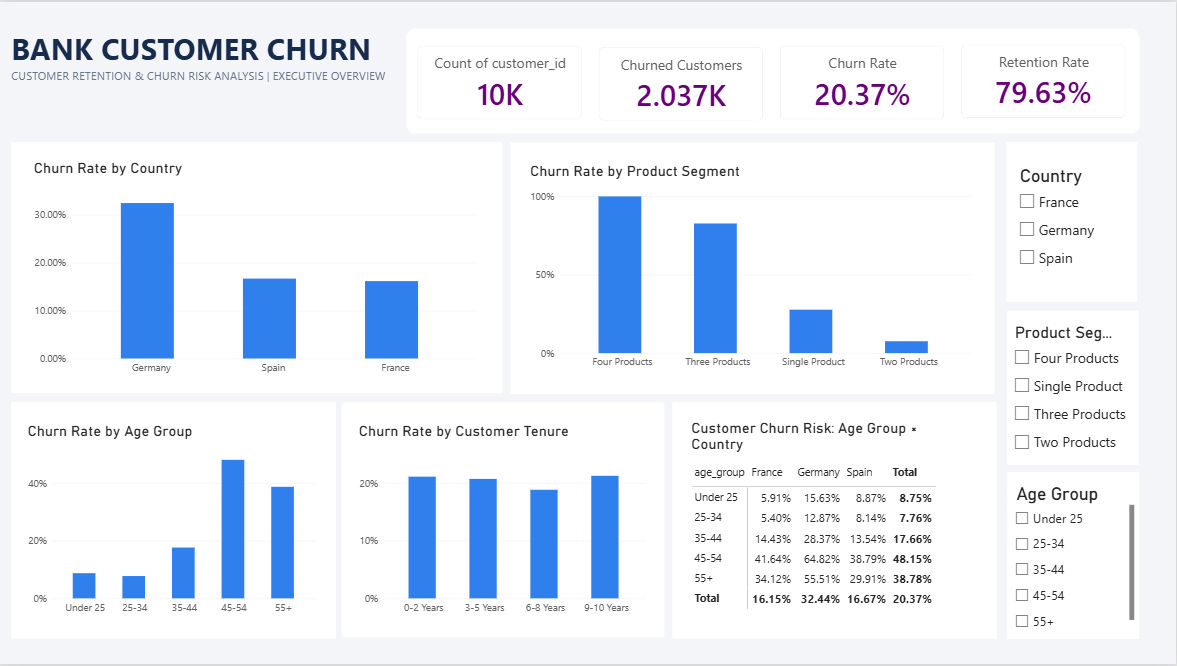

This screenshot's page, from the dashboard's own definition file:
{"tool":"powerbi","page":{"name":"Executive Overview","canvas":[1920,1080],"ordinal":0},"visuals":[{"type":"textbox","box":[18.2,43.2,638.6,170.5],"z":0},{"type":"shape","box":[1645.4,503.7,213.6,251.5],"z":0,"group":"g14"},{"type":"shape","box":[1097.7,652.3,529,386],"z":0,"group":"g12"},{"type":"shape","box":[1645.7,766.8,214.2,272.5],"z":0,"group":"g2"},{"type":"group","id":"g1","title":"Group 10","box":[663.6,43.2,1197.5,172.5],"z":1000},{"type":"shape","box":[1642.9,228.6,213.6,260.6],"z":1000,"group":"g3"},{"type":"shape","box":[18.2,229.5,801.7,410],"z":1000,"group":"g5"},{"type":"group","id":"g2","title":"Group 6","box":[1645.7,766.8,213.6,272.1],"z":1000,"group":"g8"},{"type":"shape","box":[663.6,43.2,1197.5,172.5],"z":2000,"group":"g1"},{"type":"group","id":"g3","title":"Group 7","box":[1642.9,228.6,214.3,261.1],"z":2000,"group":"g8"},{"type":"group","id":"g4","title":"Group 1","box":[833,229.5,794.3,411.4],"z":2000},{"type":"shape","box":[833,229.5,792.2,412.3],"z":2000,"group":"g4"},{"type":"cardVisual","title":"Total Customers","fields":{"Data":["Count(Bank_Customer_Churn_Cleaned.customer_id)"]},"box":[682.6,72.3,268,120],"z":3000,"group":"g13"},{"type":"group","id":"g5","title":"Group 4","box":[18.2,229.5,801.1,409.1],"z":3000},{"type":"group","id":"g6","title":"Group 8","box":[1645.4,503.7,213.6,251.5],"z":3000,"group":"g8"},{"type":"shape","box":[558,652.1,528.4,385.7],"z":3000,"group":"g10"},{"type":"shape","box":[18.2,652.2,530.2,385.7],"z":3000,"group":"g11"},{"type":"cardVisual","fields":{"Data":["Bank_Customer_Churn_Cleaned.Churned Customers"]},"box":[978.7,73.3,268,120],"z":4000,"group":"g13"},{"type":"group","id":"g7","title":"Group 5","box":[18.2,652.1,1609.1,386.5],"z":4000},{"type":"group","id":"g8","title":"Group 14","box":[1642.9,228.6,216.7,809.5],"z":5000},{"type":"group","id":"g9","title":"Group 12","box":[1097.7,652.3,529.5,386.4],"z":5000,"group":"g7"},{"type":"cardVisual","fields":{"Data":["Bank_Customer_Churn_Cleaned.Churn Rate"]},"box":[1274.8,71.2,268,120],"z":6000,"group":"g13"},{"type":"clusteredColumnChart","title":"Churn Rate by Country","fields":{"Category":["Bank_Customer_Churn_Cleaned.country"],"Y":["Bank_Customer_Churn_Cleaned.Churn Rate"]},"box":[38.9,242,753.8,389],"z":6000,"group":"g5"},{"type":"cardVisual","fields":{"Data":["Bank_Customer_Churn_Cleaned.Retention Rate"]},"box":[1570.9,70.1,268,120],"z":7000,"group":"g13"},{"type":"clusteredColumnChart","title":"Churn Rate by Product Segment","fields":{"Category":["Bank_Customer_Churn_Cleaned.product_segment"],"Y":["Bank_Customer_Churn_Cleaned.Churn Rate"]},"box":[849.6,247.3,753.5,374.1],"z":7000,"group":"g4"},{"type":"group","id":"g10","title":"Group 2","box":[558,652.1,529.5,386.4],"z":7000,"group":"g7"},{"type":"group","id":"g11","title":"Group 3","box":[18.2,652.2,529.5,386.4],"z":8000,"group":"g7"},{"type":"pivotTable","title":"Customer Churn Risk: Age Group × Country","fields":{"Columns":["Bank_Customer_Churn_Cleaned.country"],"Rows":["Bank_Customer_Churn_Cleaned.age_group"],"Values":["Bank_Customer_Churn_Cleaned.Churn Rate"]},"box":[1112.3,665.4,488.8,350.2],"z":8000,"group":"g12"},{"type":"clusteredColumnChart","title":"Churn Rate by Customer Tenure","fields":{"Category":["Bank_Customer_Churn_Cleaned.tenure_group"],"Y":["Bank_Customer_Churn_Cleaned.Churn Rate"]},"box":[570.9,671.1,502.6,350],"z":8000,"group":"g10"},{"type":"group","id":"g12","title":"Group 13","box":[1097.7,652.3,529,386],"z":8002,"group":"g9"},{"type":"slicer","title":"Select Country","fields":{"Values":["Bank_Customer_Churn_Cleaned.country"]},"box":[1658,266.5,179.5,180.6],"z":9000,"group":"g3"},{"type":"clusteredColumnChart","title":"Churn Rate by Age Group","fields":{"Category":["Bank_Customer_Churn_Cleaned.age_group"],"Y":["Bank_Customer_Churn_Cleaned.Churn Rate"]},"box":[29.3,671.2,504.4,350],"z":9000,"group":"g11"},{"type":"slicer","fields":{"Values":["Bank_Customer_Churn_Cleaned.age_group"]},"box":[1652.4,785.3,200.9,235.6],"z":9000,"group":"g2"},{"type":"slicer","fields":{"Values":["Bank_Customer_Churn_Cleaned.product_segment"]},"box":[1650,524.6,204.3,216.3],"z":10000,"group":"g14"},{"type":"group","id":"g13","title":"Group 9","box":[682.6,70.1,1154.5,122.7],"z":13003,"group":"g1"},{"type":"group","id":"g14","title":"Group 11","box":[1645.4,503.7,213.6,251.5],"z":13005,"group":"g6"}]}

Visuals, with their boxes in screenshot pixels (x1, y1, x2, y2), scaled from the page's 1920x1080 canvas onto the 1177x666 screenshot:
textbox: pyautogui.locateOnScreen(11, 27, 403, 132)
shape: pyautogui.locateOnScreen(1009, 311, 1140, 466)
shape: pyautogui.locateOnScreen(673, 402, 997, 640)
shape: pyautogui.locateOnScreen(1009, 473, 1140, 641)
"Group 10" group: pyautogui.locateOnScreen(407, 27, 1141, 133)
shape: pyautogui.locateOnScreen(1007, 141, 1138, 302)
shape: pyautogui.locateOnScreen(11, 142, 503, 394)
"Group 6" group: pyautogui.locateOnScreen(1009, 473, 1140, 641)
shape: pyautogui.locateOnScreen(407, 27, 1141, 133)
"Group 7" group: pyautogui.locateOnScreen(1007, 141, 1139, 302)
"Group 1" group: pyautogui.locateOnScreen(511, 142, 998, 395)
shape: pyautogui.locateOnScreen(511, 142, 996, 396)
"Total Customers" cardVisual: pyautogui.locateOnScreen(418, 45, 583, 119)
"Group 4" group: pyautogui.locateOnScreen(11, 142, 502, 394)
"Group 8" group: pyautogui.locateOnScreen(1009, 311, 1140, 466)
shape: pyautogui.locateOnScreen(342, 402, 666, 640)
shape: pyautogui.locateOnScreen(11, 402, 336, 640)
cardVisual - Bank_Customer_Churn_Cleaned.Churned Customers: pyautogui.locateOnScreen(600, 45, 764, 119)
"Group 5" group: pyautogui.locateOnScreen(11, 402, 998, 640)
"Group 14" group: pyautogui.locateOnScreen(1007, 141, 1140, 640)
"Group 12" group: pyautogui.locateOnScreen(673, 402, 998, 641)
cardVisual - Bank_Customer_Churn_Cleaned.Churn Rate: pyautogui.locateOnScreen(781, 44, 946, 118)
"Churn Rate by Country" clusteredColumnChart: pyautogui.locateOnScreen(24, 149, 486, 389)
cardVisual - Bank_Customer_Churn_Cleaned.Retention Rate: pyautogui.locateOnScreen(963, 43, 1127, 117)
"Churn Rate by Product Segment" clusteredColumnChart: pyautogui.locateOnScreen(521, 153, 983, 383)
"Group 2" group: pyautogui.locateOnScreen(342, 402, 667, 640)
"Group 3" group: pyautogui.locateOnScreen(11, 402, 336, 640)
"Customer Churn Risk: Age Group × Country" pivotTable: pyautogui.locateOnScreen(682, 410, 982, 626)
"Churn Rate by Customer Tenure" clusteredColumnChart: pyautogui.locateOnScreen(350, 414, 658, 630)
"Group 13" group: pyautogui.locateOnScreen(673, 402, 997, 640)
"Select Country" slicer: pyautogui.locateOnScreen(1016, 164, 1126, 276)
"Churn Rate by Age Group" clusteredColumnChart: pyautogui.locateOnScreen(18, 414, 327, 630)
slicer - Bank_Customer_Churn_Cleaned.age_group: pyautogui.locateOnScreen(1013, 484, 1136, 630)
slicer - Bank_Customer_Churn_Cleaned.product_segment: pyautogui.locateOnScreen(1011, 324, 1137, 457)
"Group 9" group: pyautogui.locateOnScreen(418, 43, 1126, 119)
"Group 11" group: pyautogui.locateOnScreen(1009, 311, 1140, 466)
